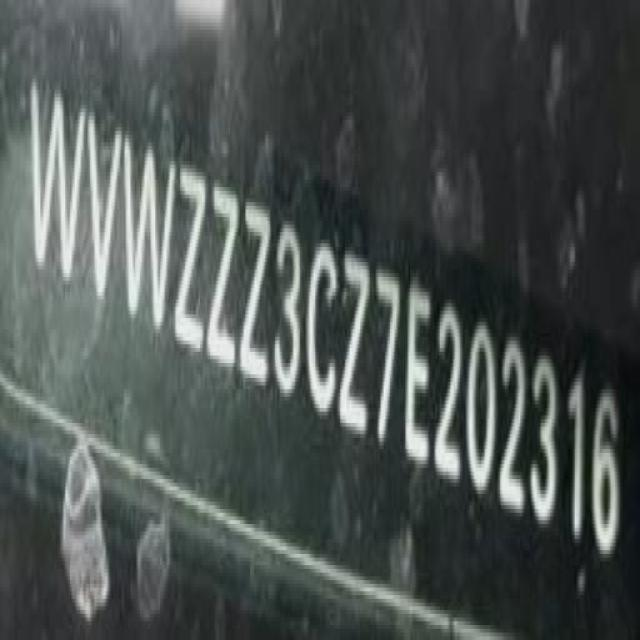0: (464, 310, 494, 509)
1: (566, 358, 584, 552)
2: (501, 332, 528, 522), (435, 300, 463, 482)
3: (274, 208, 304, 408), (531, 342, 560, 534)
6: (593, 374, 624, 562)
7: (378, 256, 403, 469)
C: (306, 225, 338, 425)
E: (403, 273, 430, 470)
V: (86, 108, 124, 312)
W: (26, 73, 84, 292), (120, 130, 172, 347)
Z: (175, 154, 209, 364), (240, 190, 273, 396), (208, 176, 240, 381), (342, 241, 372, 444)
